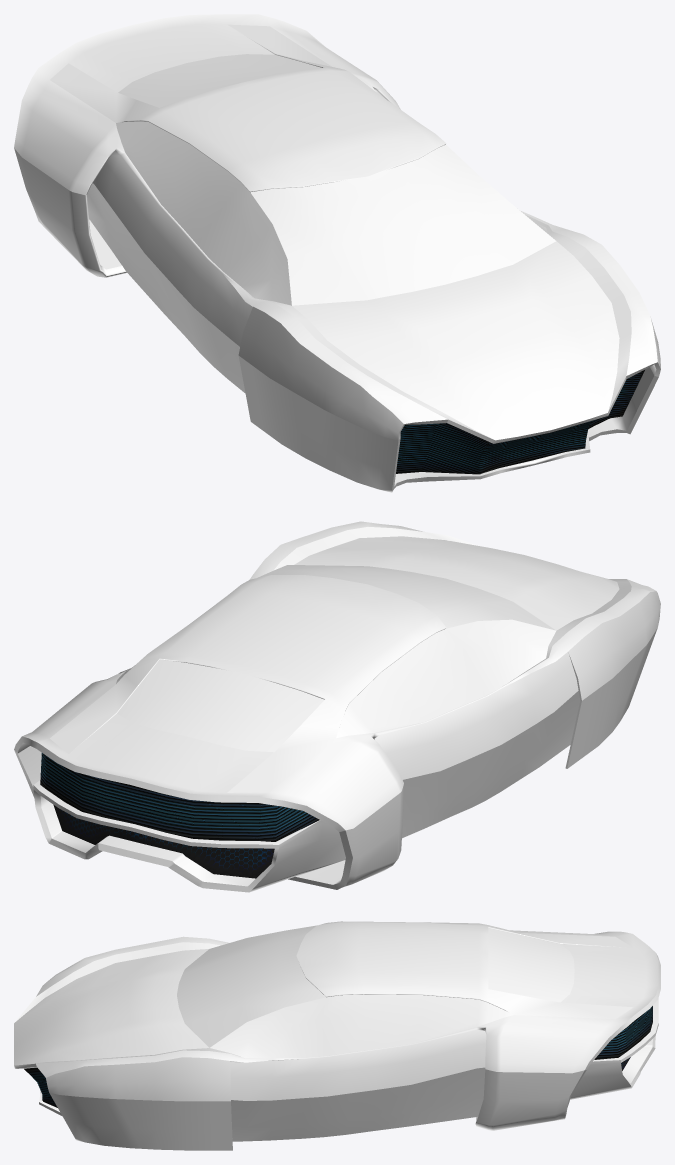
File: HyperSonicAdvanced.fbx
The picture shows the model from 3 angles, top to bottom: view 1: azimuth 30°, elevation 25°; view 2: azimuth 150°, elevation 25°; view 3: azimuth 270°, elevation 25°; orthographic projection. The views are drawn at different scales.
Parts seen in each view (by area): view 1: Hyper_Chassis, Hyper_Windows, Hyper_Detail; view 2: Hyper_Chassis, Hyper_Windows, Hyper_Detail; view 3: Hyper_Chassis, Hyper_Windows, Hyper_Detail.
Boxes of the visible parts, x1,y1,x2,y2 form: Hyper_Chassis: (14, 14, 660, 492); Hyper_Windows: (116, 54, 555, 305); Hyper_Detail: (396, 370, 644, 474); Hyper_Chassis: (14, 521, 660, 892); Hyper_Windows: (116, 565, 556, 752); Hyper_Detail: (40, 753, 319, 878); Hyper_Chassis: (14, 921, 660, 1150); Hyper_Windows: (177, 925, 574, 1058); Hyper_Detail: (24, 1006, 652, 1107).
Bounding box in the file's own units: 1.79 × 0.9592 × 3.81.
